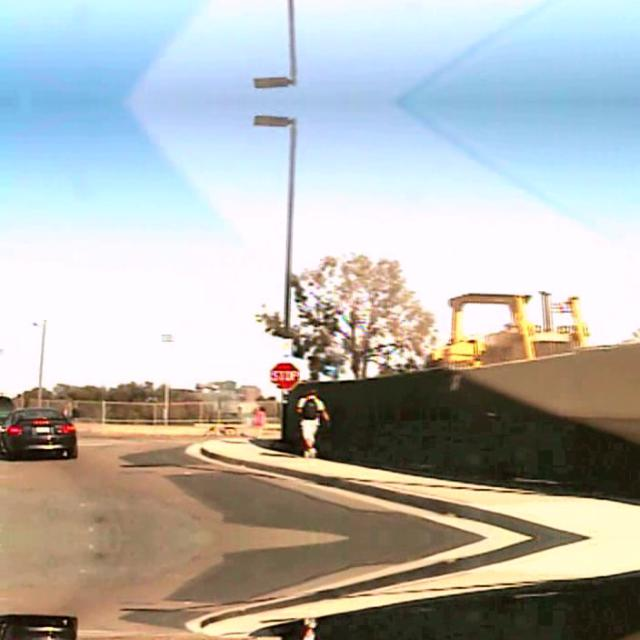stop: (268, 361, 300, 389)
